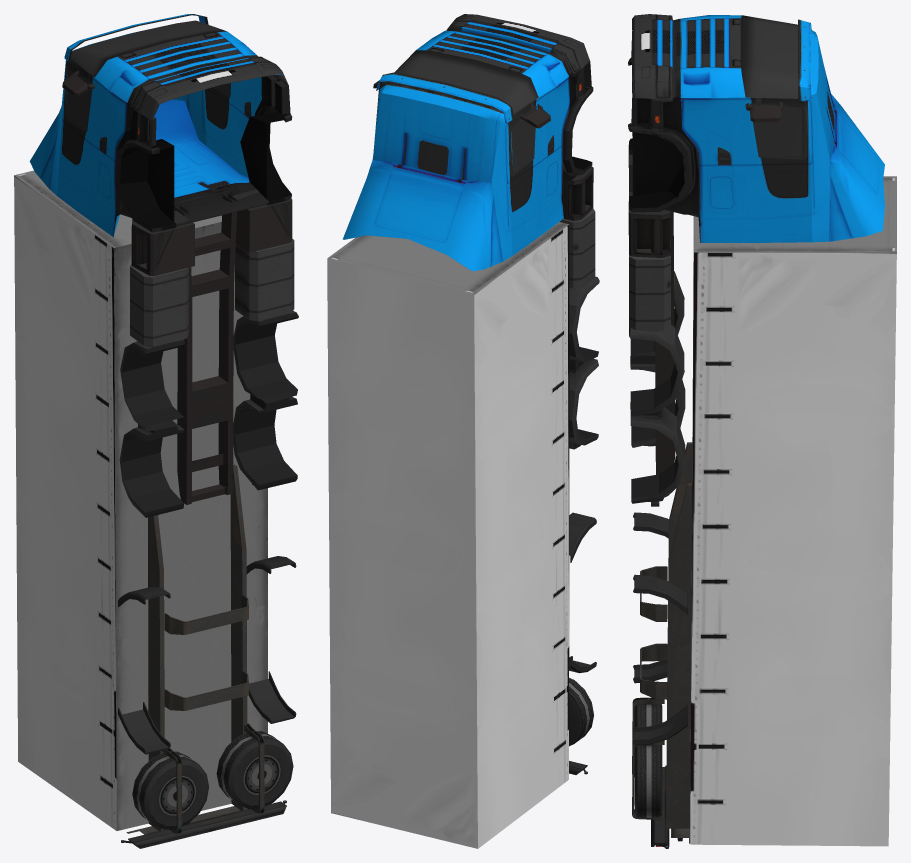
The model's file is Truck.fbx.
3 views of the same model, side by side, from view 1: azimuth 30°, elevation 25°; view 2: azimuth 150°, elevation 25°; view 3: azimuth 270°, elevation 25° (orthographic). The views are drawn at different scales.
Visible parts, largest first — view 1: Truck; view 2: Truck; view 3: Truck.
Part boxes in pixels (x1,y1,x2,y2): Truck: (14,14,298,848); Truck: (327,14,599,848); Truck: (628,14,896,848).
Size of the model in its own units: 290 by 1213 by 380.
Materials: 1 (1 with a texture image).
